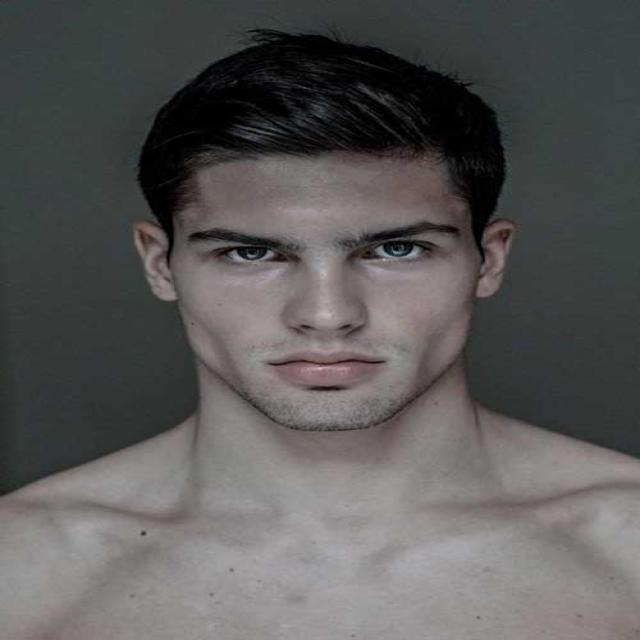front: (177, 200, 481, 413)
